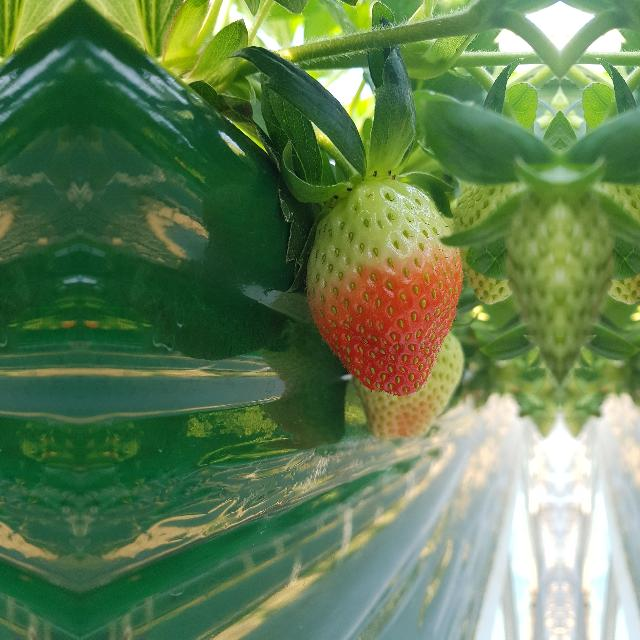Health_50: (356, 327, 479, 437)
Health_75: (304, 178, 464, 396)
